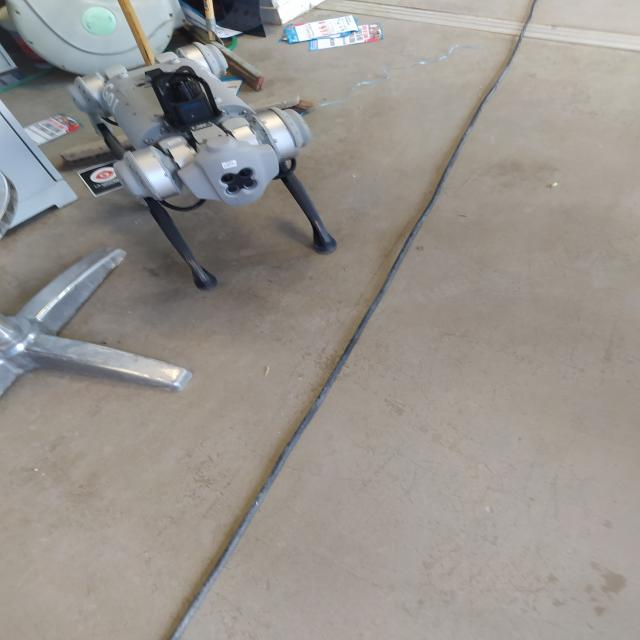unitree-go1-robot: (68, 44, 344, 288)
